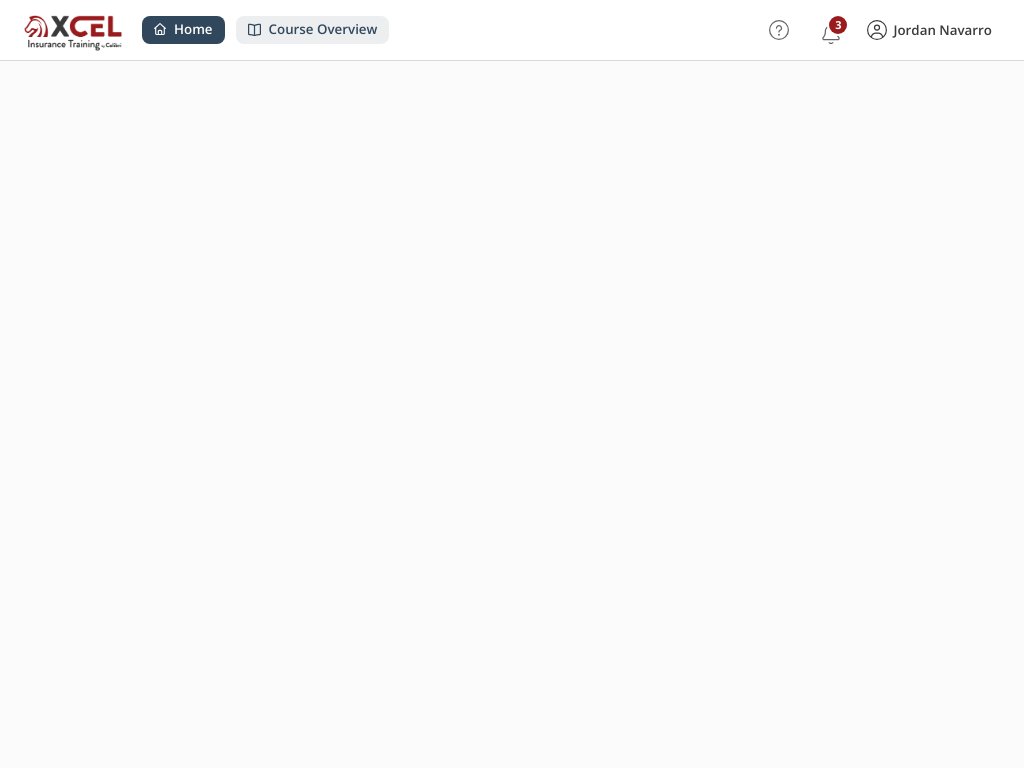
Test: the Atlas header’s Help control › opens the Help sheet from Hybrid V1’s icon, and navigates nowhere
Check: the 3rd icon is shown, box [770,20,790,40]
Check: the dialog "Help" is not shown
Click the button named "Help": (780, 30) [760,10,800,50]
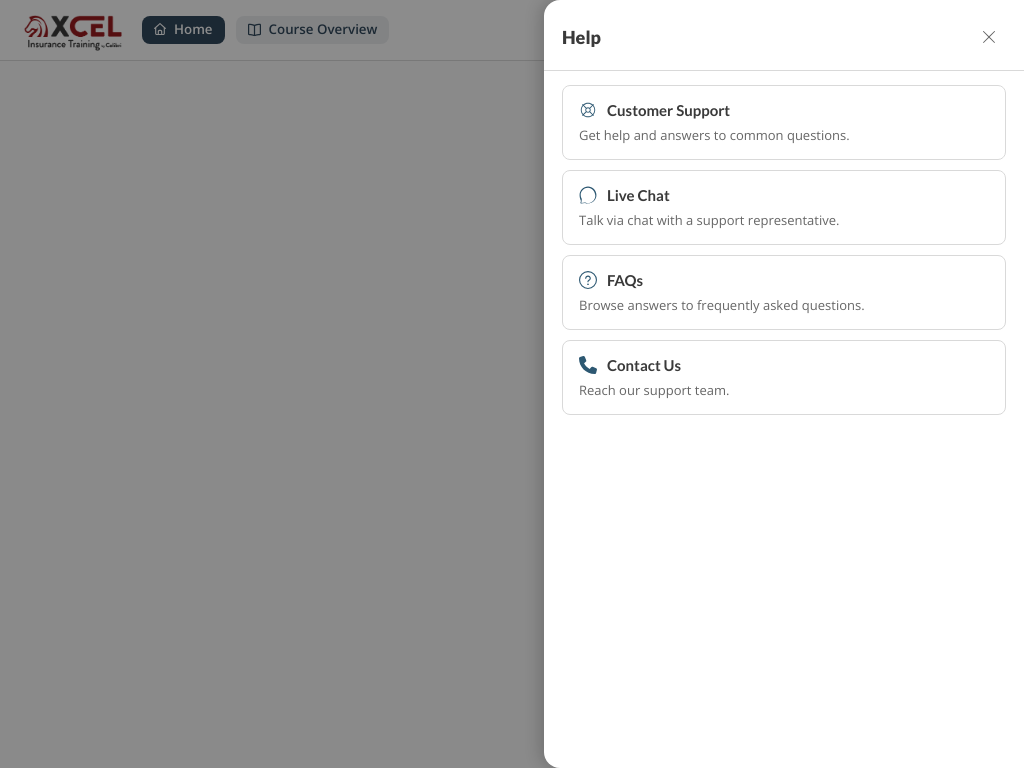
Check: the dialog "Help" is shown, box [544,0,1023,767]
